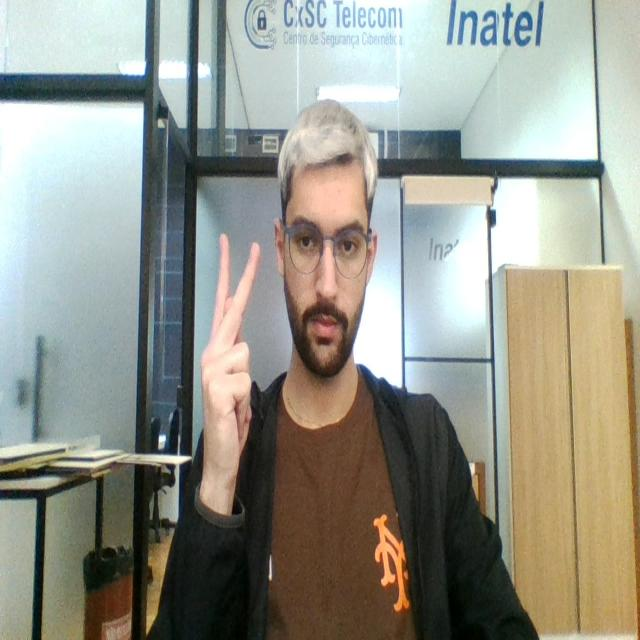K: (199, 228, 263, 477)
